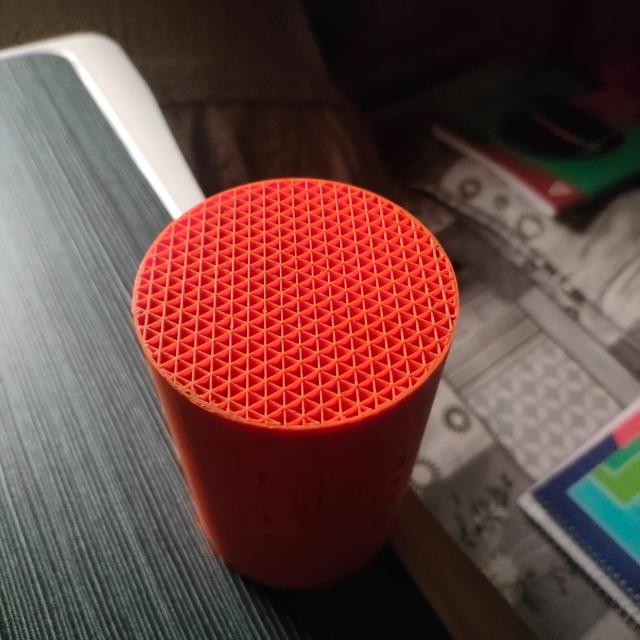Cylinder: (130, 175, 460, 590)
